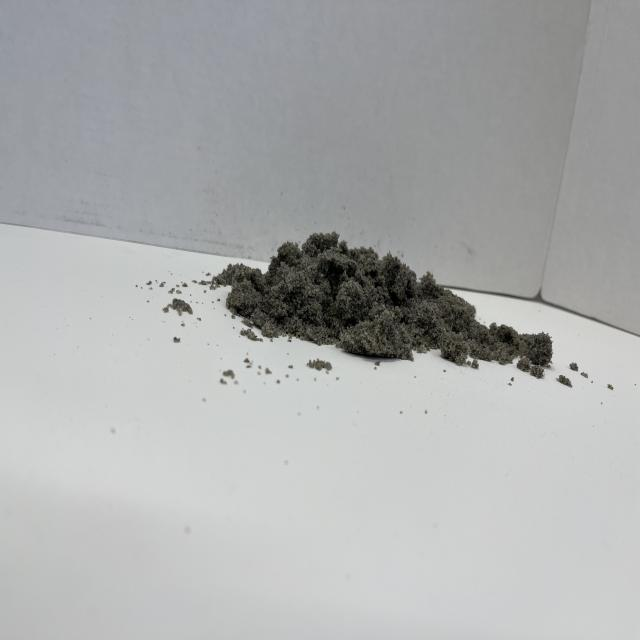sand: (238, 217, 538, 375)
